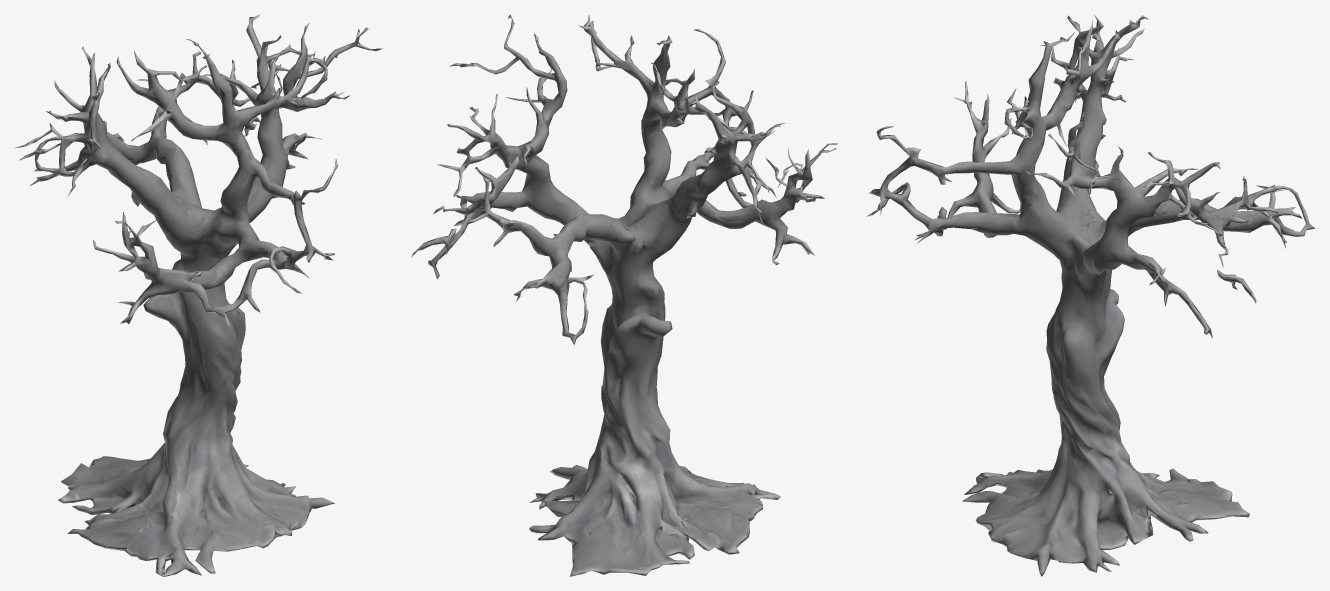
File: ModelBlender_Tronco.glb
3 views of the same model, side by side, from view 1: azimuth 30°, elevation 25°; view 2: azimuth 150°, elevation 25°; view 3: azimuth 270°, elevation 25° (orthographic). The views are drawn at different scales.
Parts seen in each view (by area): view 1: file1; view 2: file1; view 3: file1.
Boxes of the visible parts, <box> form: file1: <box>15,14,382,576</box>; file1: <box>411,14,837,576</box>; file1: <box>866,14,1314,576</box>.
Bounding box in the file's own units: 1.5 × 1.98 × 1.67.
1 material, 1 textured.
